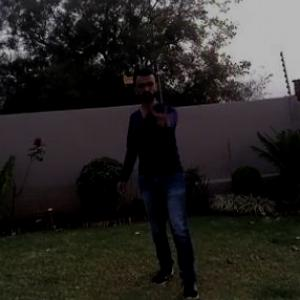takeoff-hand: (145, 103, 174, 135)
